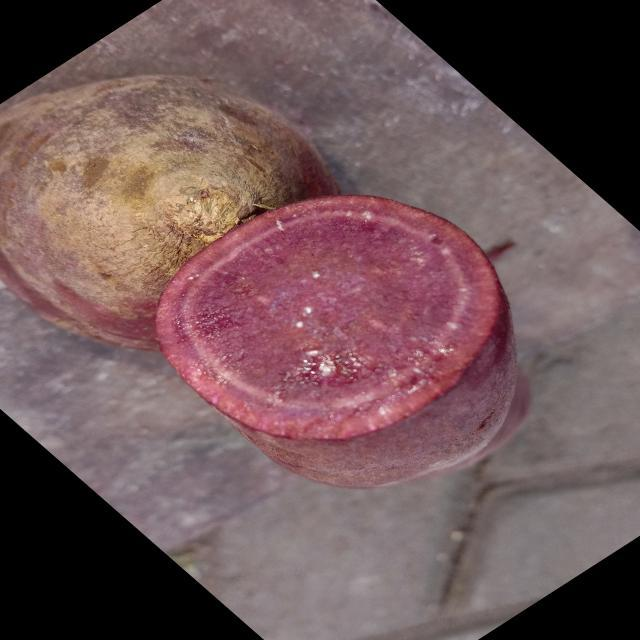Healthy Sweet Potato: (157, 195, 502, 440)
